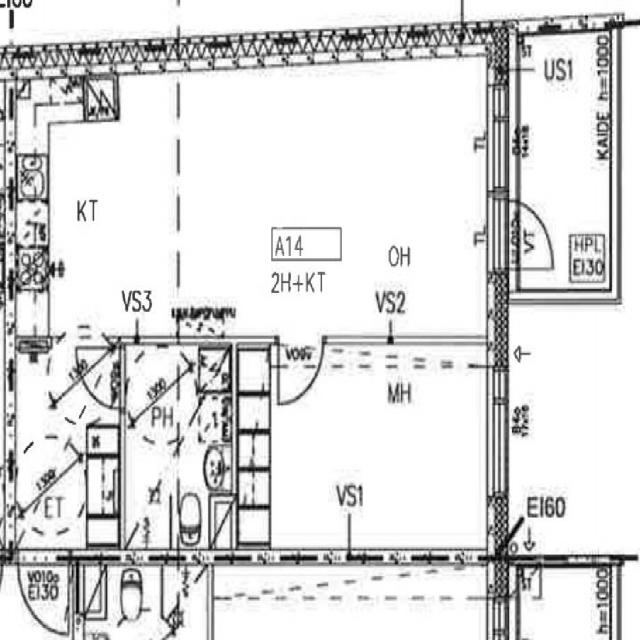door: (486, 200, 557, 268), (18, 548, 68, 633), (278, 336, 323, 406), (75, 348, 125, 408)
